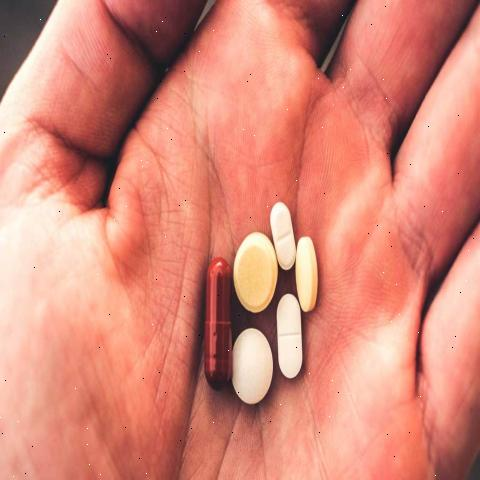Pill: (232, 222, 280, 324), (228, 326, 276, 415), (269, 178, 300, 275), (295, 221, 326, 317), (278, 294, 308, 387)
